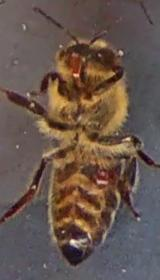varroa_mite: (82, 156, 120, 194)
